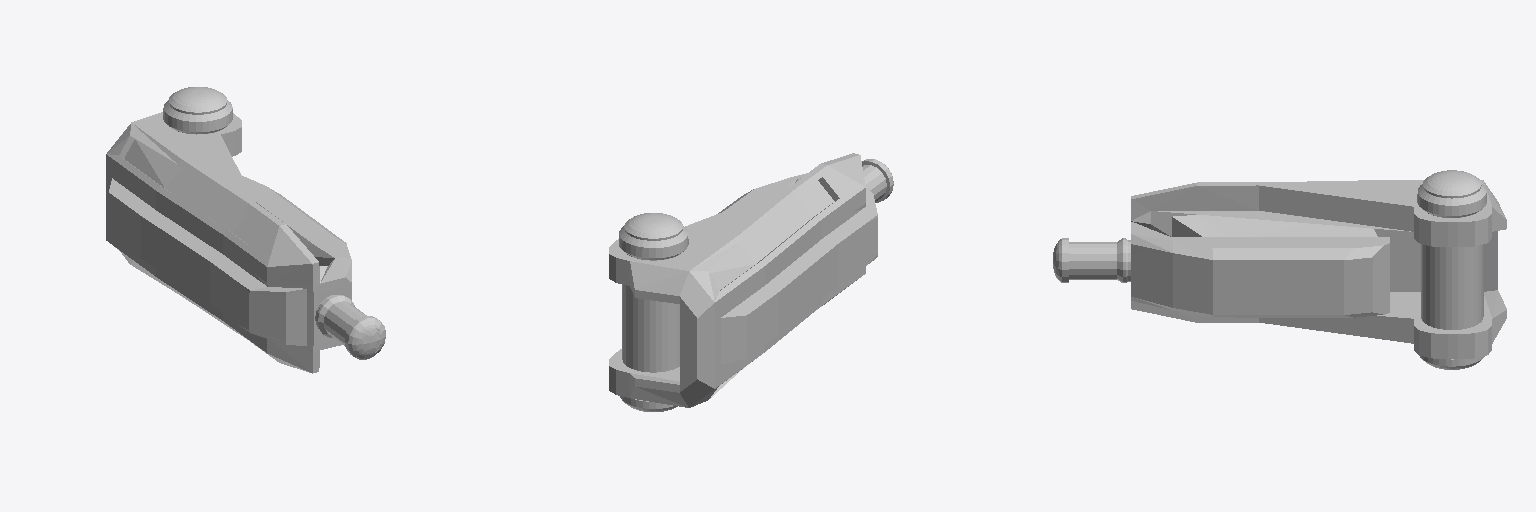
Rendered from arm_r_03.obj.
3 renders of one model, left to right at view 1: azimuth 30°, elevation 25°; view 2: azimuth 150°, elevation 25°; view 3: azimuth 270°, elevation 25°, orthographic.
Visible parts, largest first — view 1: arm_r_03_Cube.008; view 2: arm_r_03_Cube.008; view 3: arm_r_03_Cube.008.
Part boxes in pixels (left/top/right/bottom): arm_r_03_Cube.008: left=106, top=87, right=385, bottom=373; arm_r_03_Cube.008: left=609, top=153, right=893, bottom=411; arm_r_03_Cube.008: left=1053, top=170, right=1506, bottom=369.
Bounding box in the file's own units: 0.294 × 0.4154 × 0.9153.